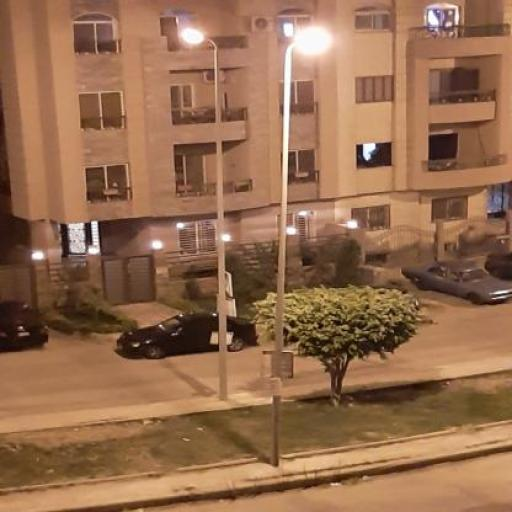street light: (268, 28, 334, 468), (179, 28, 230, 401)
